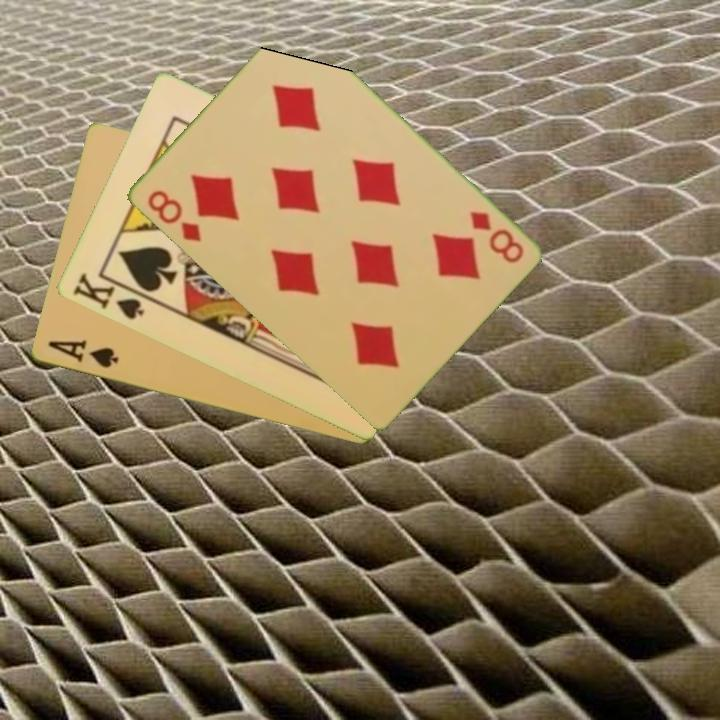8d: (143, 186, 204, 245), (465, 207, 526, 266)
As: (44, 337, 121, 371)
Ks: (68, 269, 147, 323)
